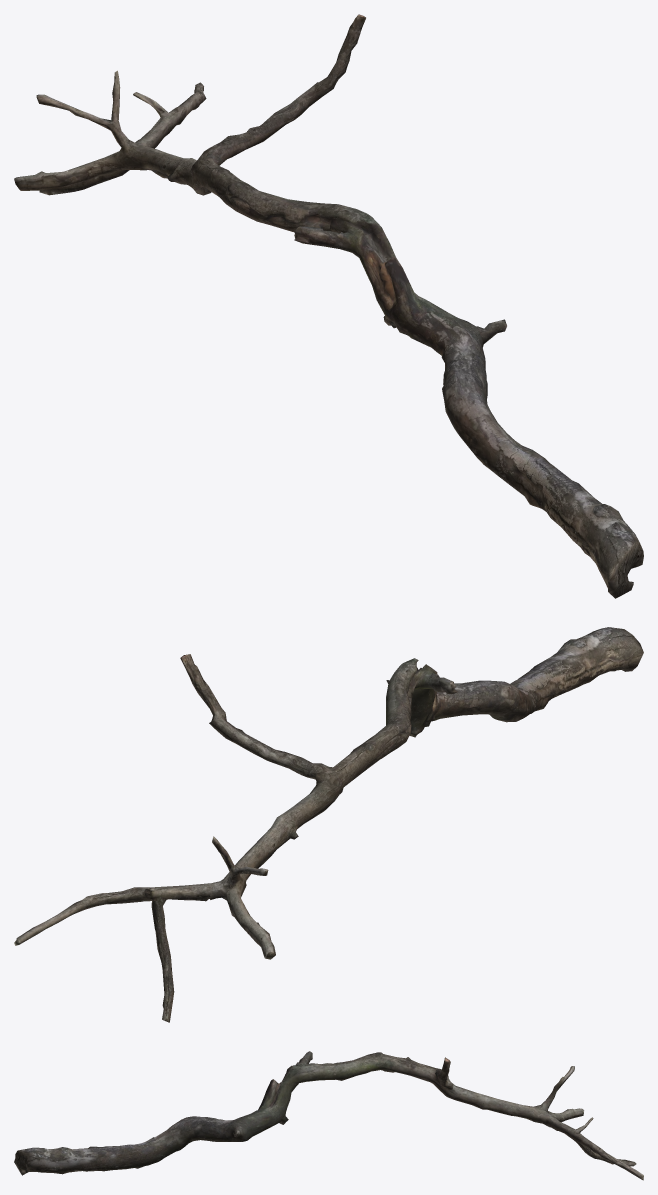
File: branch_a.glb
3 views of the same model, one above another, from view 1: azimuth 30°, elevation 25°; view 2: azimuth 150°, elevation 25°; view 3: azimuth 270°, elevation 25° (orthographic). The views are drawn at different scales.
Parts seen in each view (by area): view 1: Forest_branch_a; view 2: Forest_branch_a; view 3: Forest_branch_a.
Part boxes in pixels (x1,y1,x2,y2): Forest_branch_a: (14, 14, 643, 598); Forest_branch_a: (14, 627, 643, 1022); Forest_branch_a: (14, 1051, 643, 1180).
Bounding box in the file's own units: 0.3228 × 0.3407 × 1.3.
Materials: 1 (1 with a texture image).
